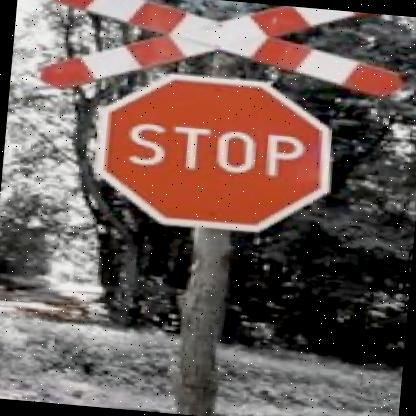stop: (88, 63, 338, 239)
